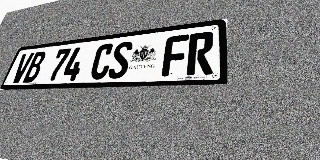4: (61, 46, 87, 81)
7: (46, 48, 72, 82)
B: (22, 51, 47, 83)
C: (88, 43, 115, 80)
F: (161, 34, 189, 76)
R: (186, 31, 214, 75)
S: (107, 41, 134, 79)
V: (10, 53, 34, 83)
